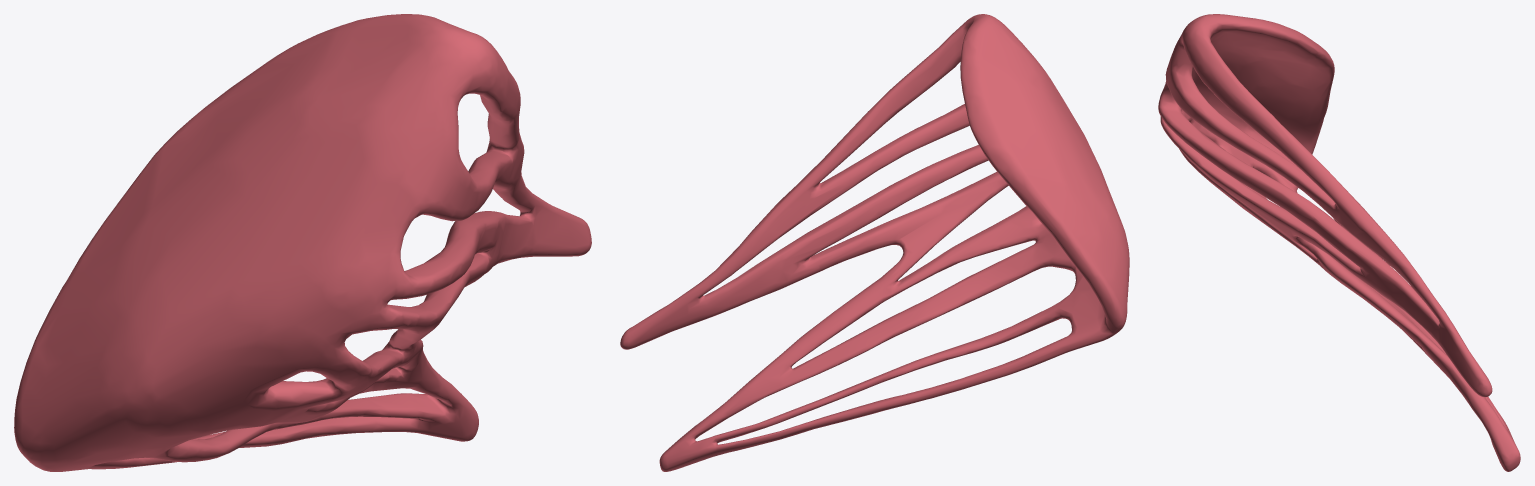
The picture shows the model from 3 angles, left to right: view 1: azimuth 30°, elevation 25°; view 2: azimuth 150°, elevation 25°; view 3: azimuth 270°, elevation 25°; orthographic projection. The views are drawn at different scales.
Visible parts, largest first — view 1: 三尖瓣后尖; view 2: 三尖瓣后尖; view 3: 三尖瓣后尖.
Boxes of the visible parts, x1,y1,x2,y2 form: 三尖瓣后尖: (14, 14, 591, 471); 三尖瓣后尖: (620, 14, 1129, 471); 三尖瓣后尖: (1158, 14, 1520, 471).
Bounding box in the file's own units: 0.054 × 0.048 × 0.042.
